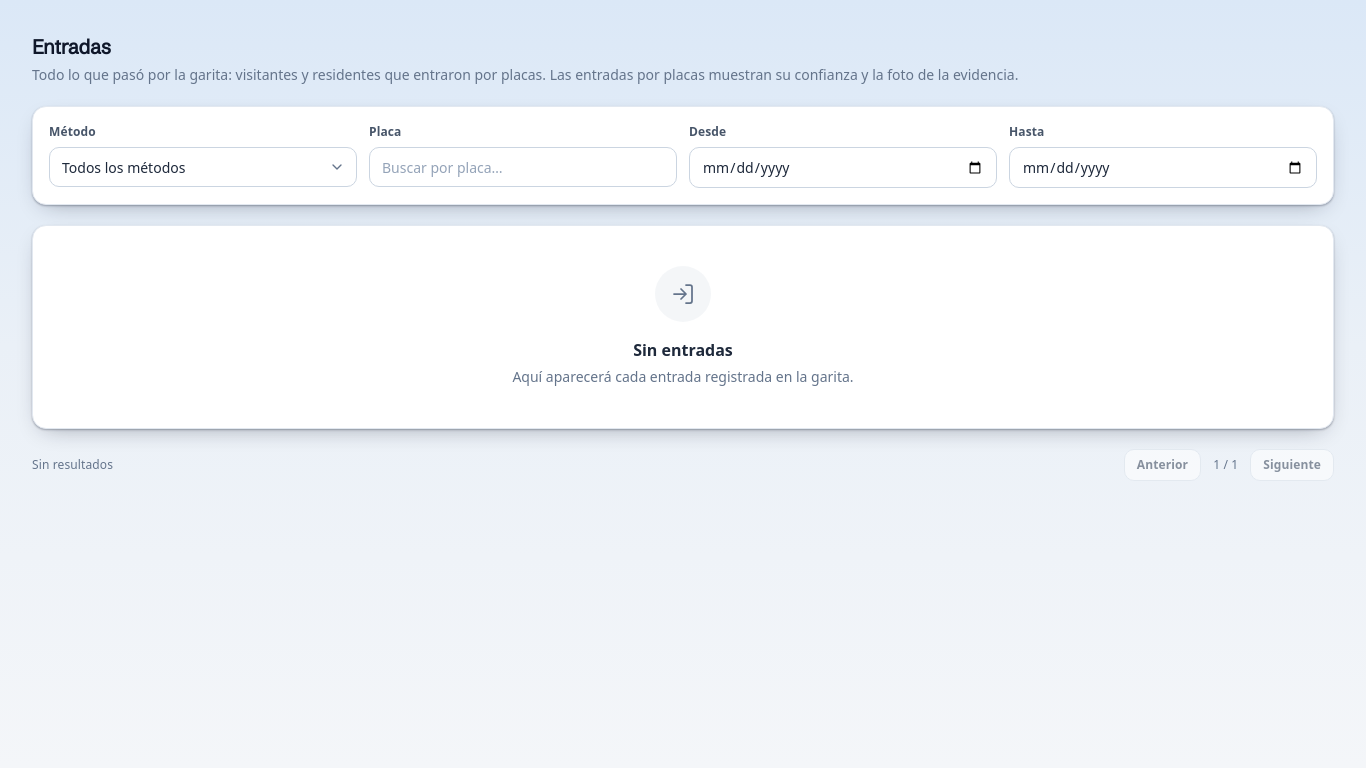
Test case: EntradasPage › estado vacío: sin filtros invita; con filtros dice que nada coincide
Expected: the text "Sin entradas" is shown, [633, 338, 733, 362]
Expected: the text "Aquí aparecerá cada entrada registrada en la garita." is shown, [512, 366, 854, 388]
Select "QR" in the dropdown labelled "Método": (203, 167) [49, 147, 357, 187]
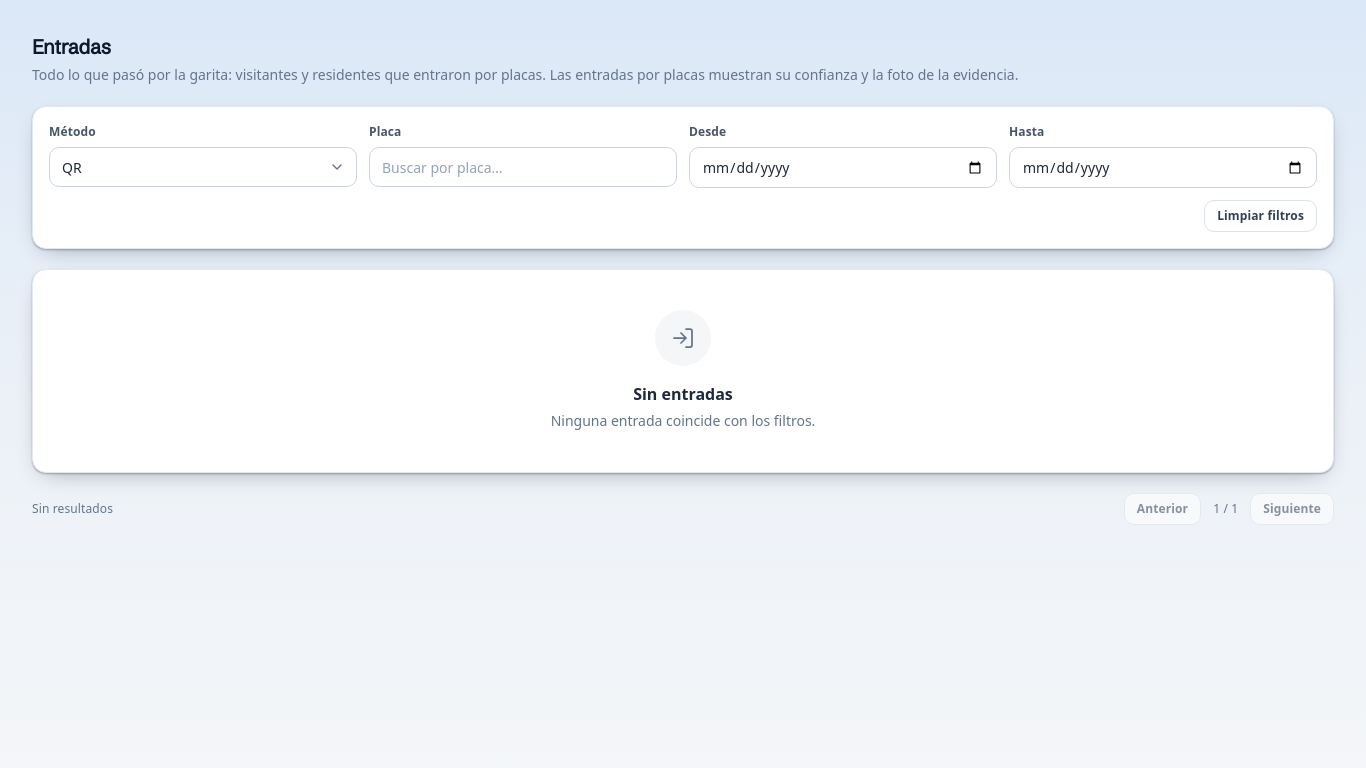
Expected: the message reads "Sin resultados", [32, 500, 113, 517]
Expected: the text "Ninguna entrada coincide con los filtros." is shown, [551, 410, 815, 432]
